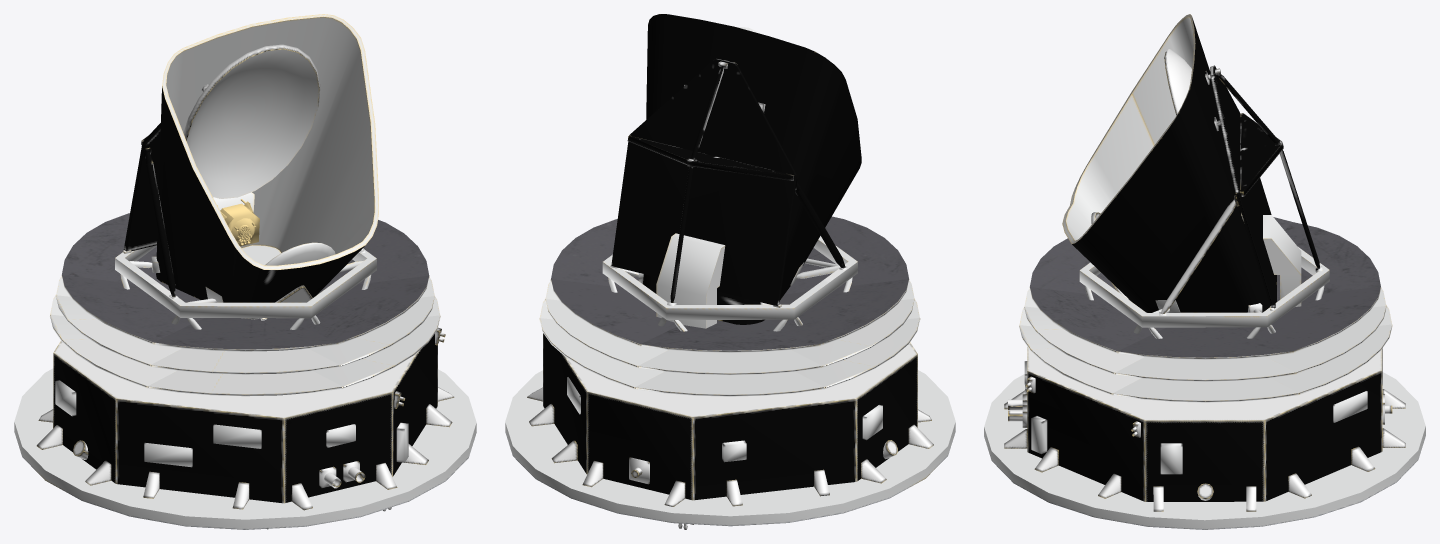
File: planck.glb
3 views of the same model, side by side, from view 1: azimuth 30°, elevation 25°; view 2: azimuth 150°, elevation 25°; view 3: azimuth 270°, elevation 25° (orthographic). The views are drawn at different scales.
Visible parts, largest first — view 1: Group2; view 2: Group2; view 3: Group2.
Boxes of the visible parts, bbox=[...] form: Group2: bbox=[14, 14, 476, 529]; Group2: bbox=[505, 14, 955, 529]; Group2: bbox=[984, 14, 1425, 529].
Size of the model in its own units: 97.2 by 100 by 97.2.
1 material, 1 textured.
